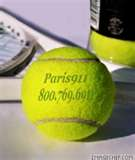tennis ball: (21, 45, 115, 142)
